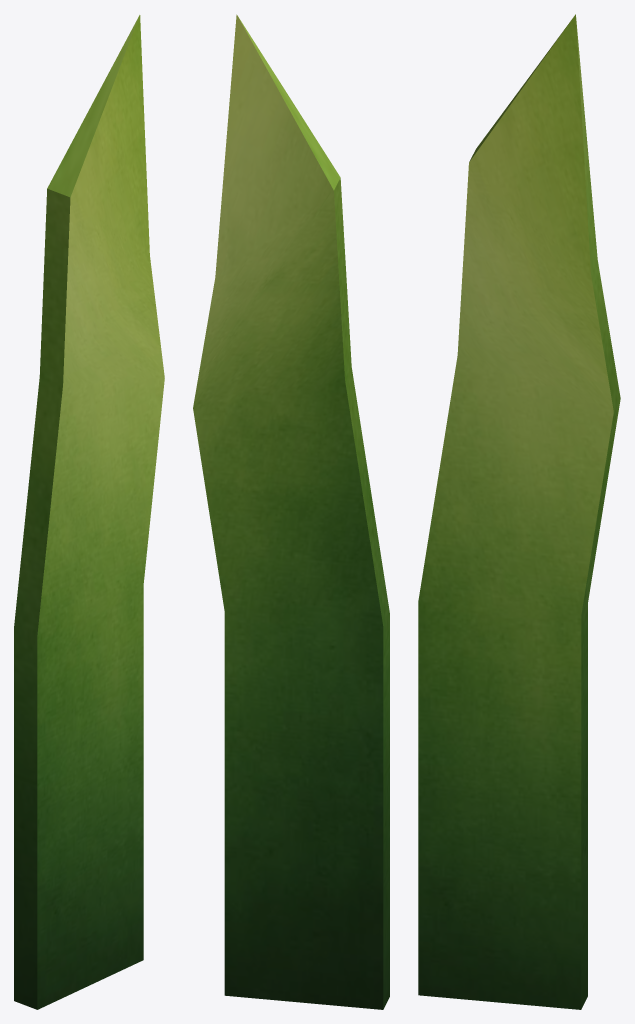
File: Leaf_v2.fbx
3 renders of one model, left to right at view 1: azimuth 30°, elevation 25°; view 2: azimuth 150°, elevation 25°; view 3: azimuth 330°, elevation 25°, orthographic. The views are drawn at different scales.
Parts seen in each view (by area): view 1: Leaf_v2; view 2: Leaf_v2; view 3: Leaf_v2.
Boxes of the visible parts, x1,y1,x2,y2 form: Leaf_v2: [14, 15, 164, 1009]; Leaf_v2: [193, 14, 389, 1009]; Leaf_v2: [418, 14, 620, 1009].
Size of the model in its own units: 0.1 by 0.5481 by 0.0465.
